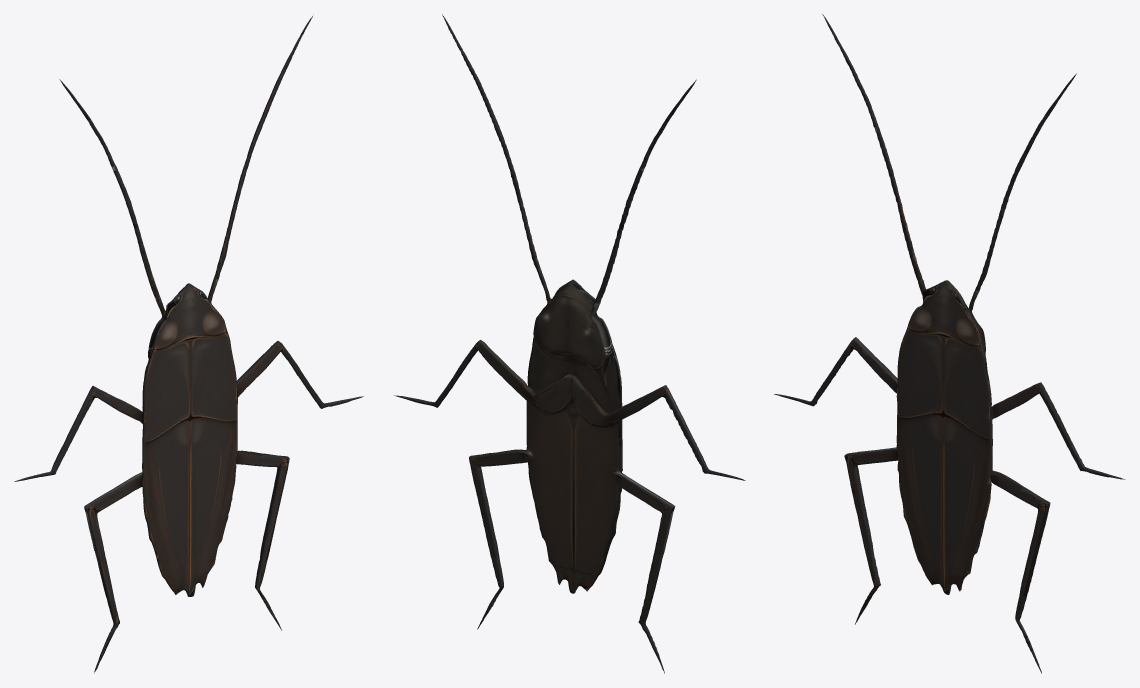
File: American Cockroach.glb
3 renders of one model, left to right at view 1: azimuth 30°, elevation 25°; view 2: azimuth 150°, elevation 25°; view 3: azimuth 330°, elevation 25°, orthographic.
Size of the model in its own units: 1.2 by 1.98 by 0.0485.
Materials: 1 (1 with a texture image).
